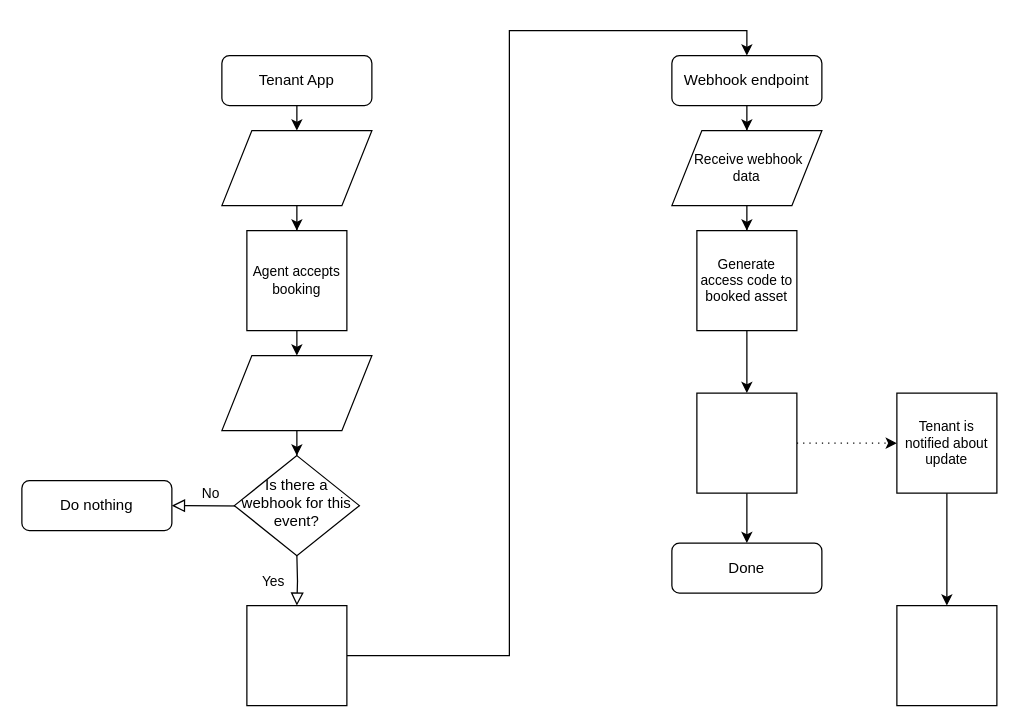
Some shapes in this 1019 by 728 pixel diagram are drawn without their labels. Here are the shapes that lost their labels. From the top down, the centre of each, then its label:
point 296,167: Tenant makes a booking
point 296,392: "booking.accepted" event emitted
point 746,442: Update the booking with the access code using Allthings API
point 296,655: Deliver event to Webhook
point 946,655: Tenant is able to access the booked asset on the booking date
